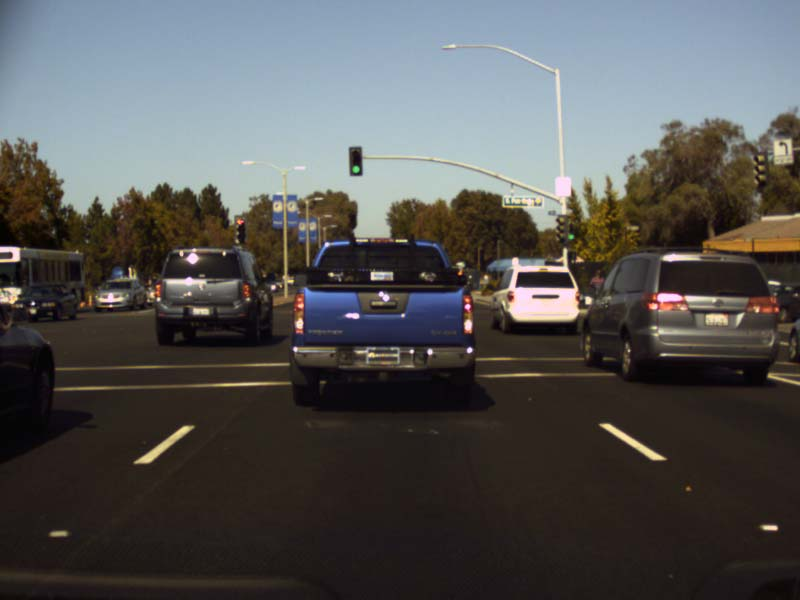Green: (348, 147, 362, 175), (568, 217, 576, 241)
Red: (234, 215, 247, 242)
